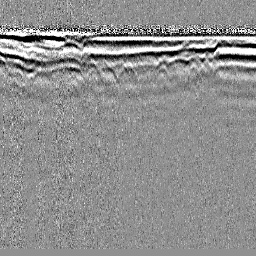cavity: (116, 60, 138, 80)
